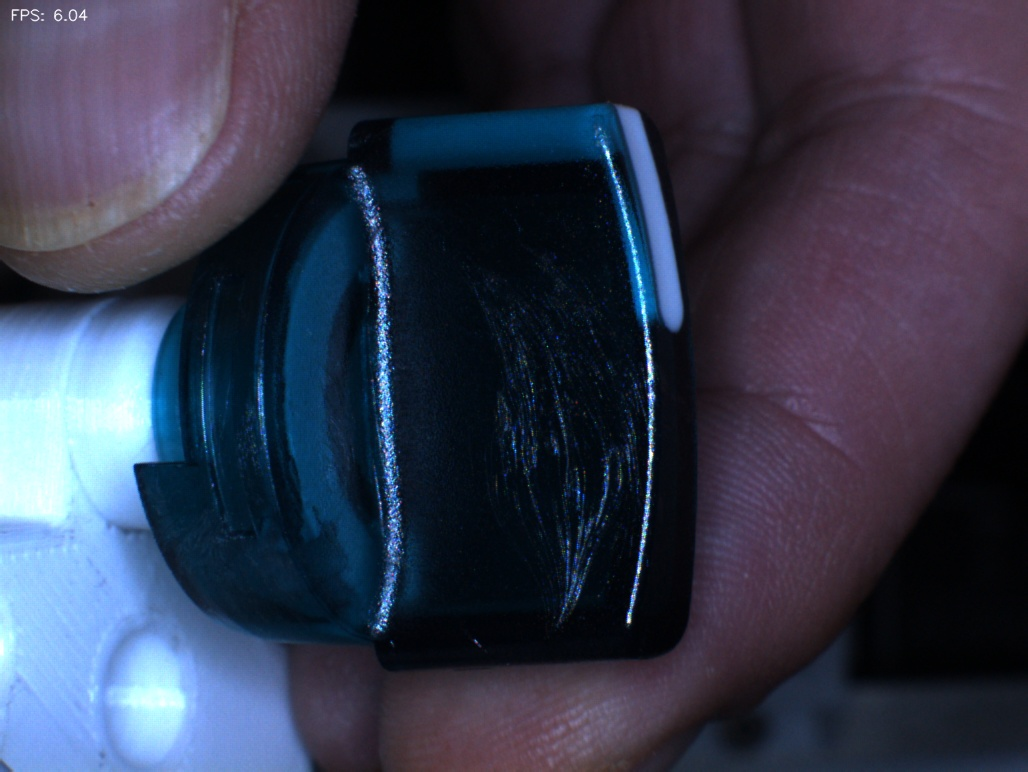Givrage: (465, 221, 625, 640)
